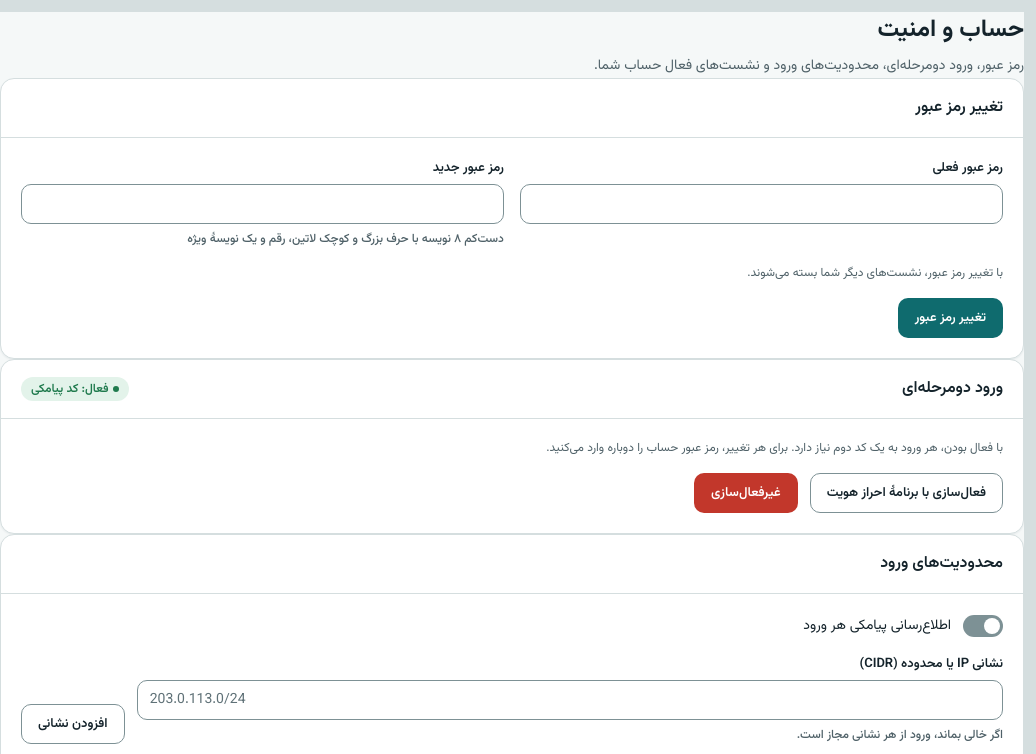
Test: ProfileSecurity › disables an active second factor with the password
Expected: the text "فعال: کد پیامکی" is shown, [21, 377, 128, 401]
Click the button "غیرفعال‌سازی".
click(746, 493)  # box [694, 473, 798, 513]
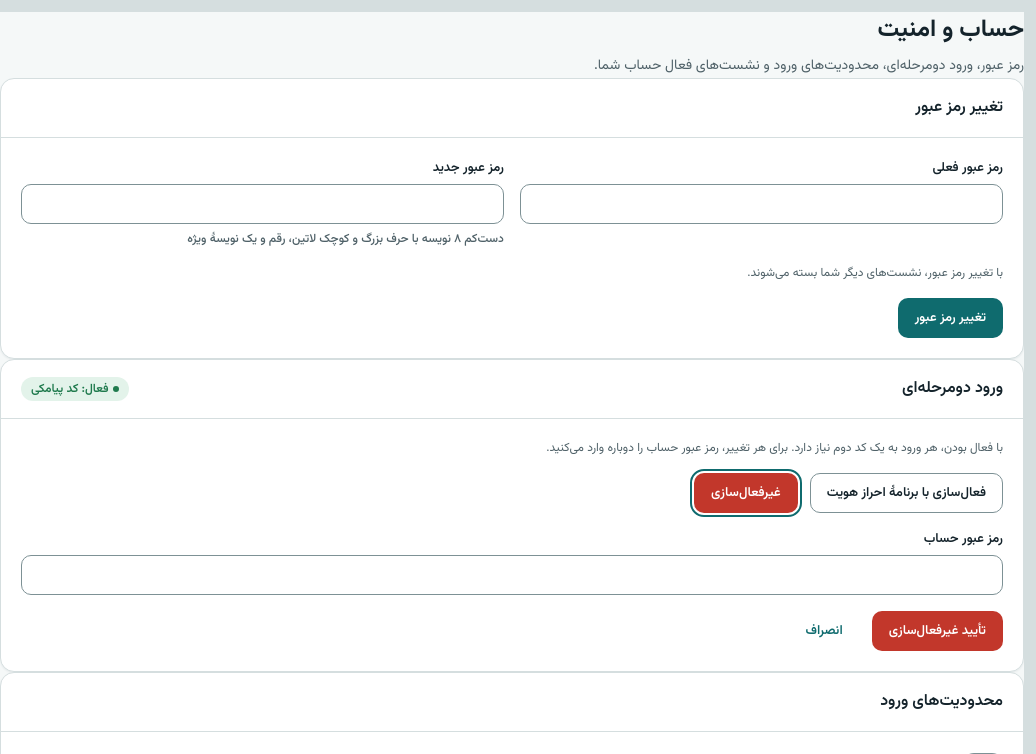
Type "Mypass1!" into the password field labelled "رمز عبور حساب".
click(512, 575); type("Mypass1!")  # box [21, 555, 1003, 595]
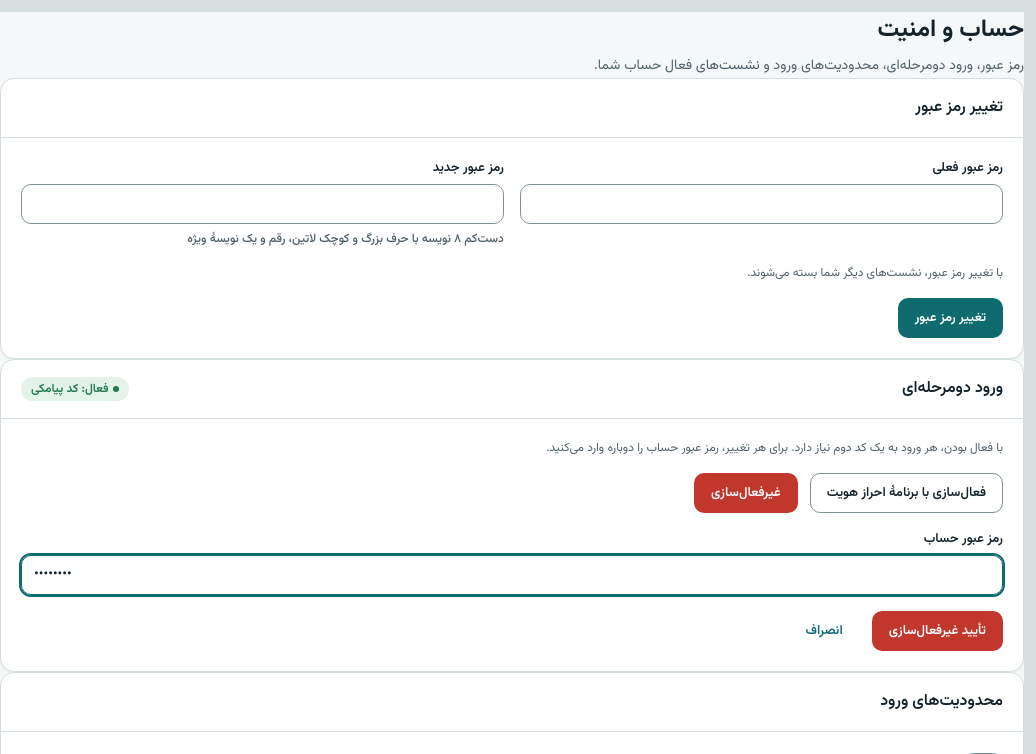
Click the button "تأیید غیرفعال‌سازی".
click(937, 631)  # box [872, 611, 1003, 651]
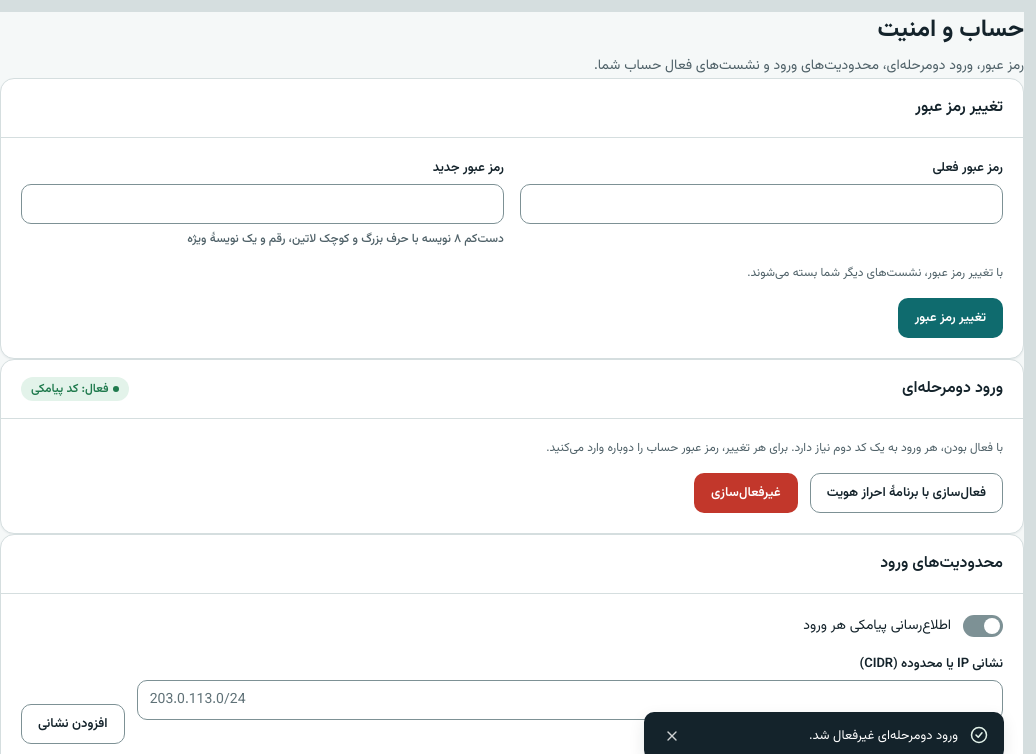
Expected: the text "ورود دومرحله‌ای غیرفعال شد." is shown, [809, 726, 958, 746]
